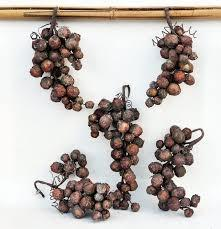Grape Rotten: (34, 85, 144, 220), (146, 126, 203, 216), (145, 9, 197, 106), (146, 12, 196, 105), (30, 16, 79, 76), (41, 72, 82, 109)
